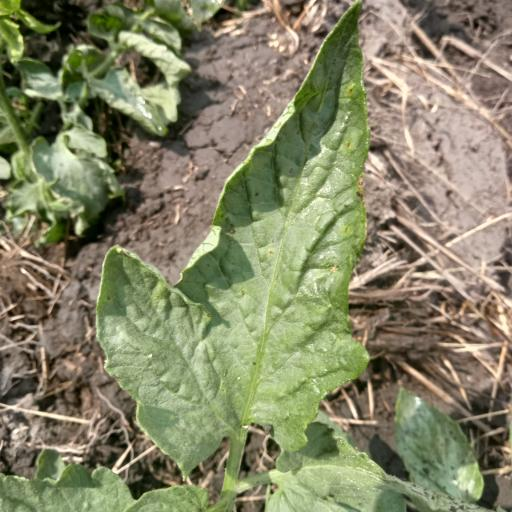Tomato_Mildiou: (166, 0, 399, 467)
